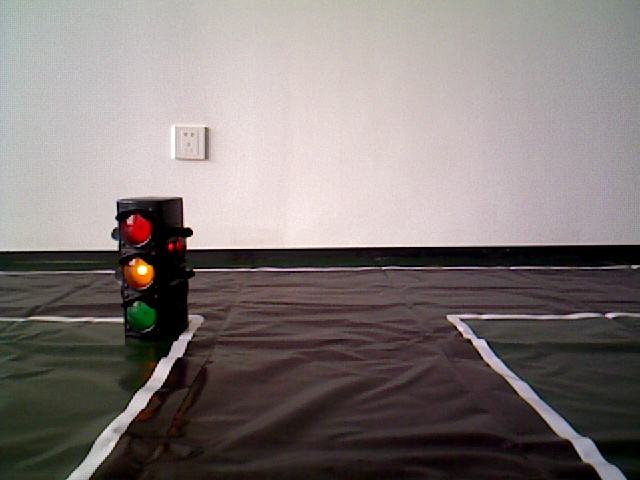yellow: (118, 197, 189, 346)
